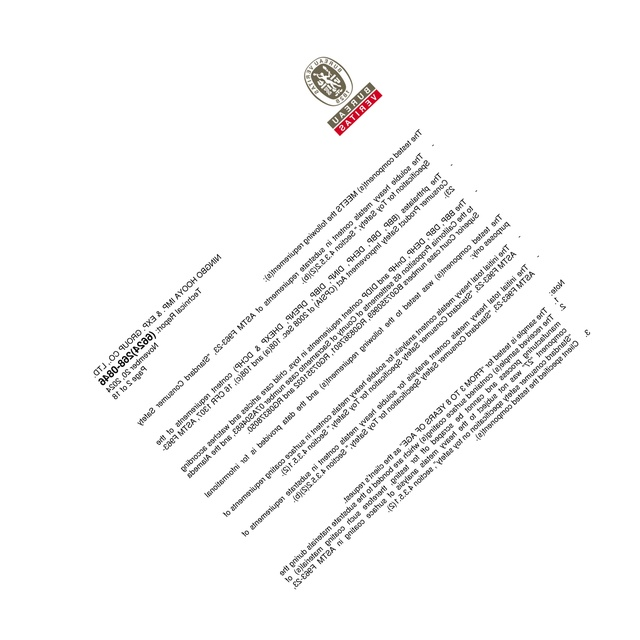bureau_veritas: (298, 52, 385, 139)
